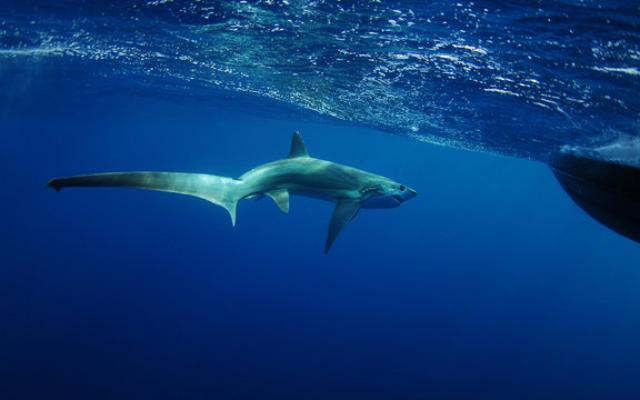Mulut: (387, 187, 413, 213)
Sirip Dada: (320, 192, 364, 258)
Sirip Ekor: (42, 166, 250, 234)
Sirip Perut: (256, 184, 298, 216)
Sirip Punggung: (286, 124, 314, 162)
